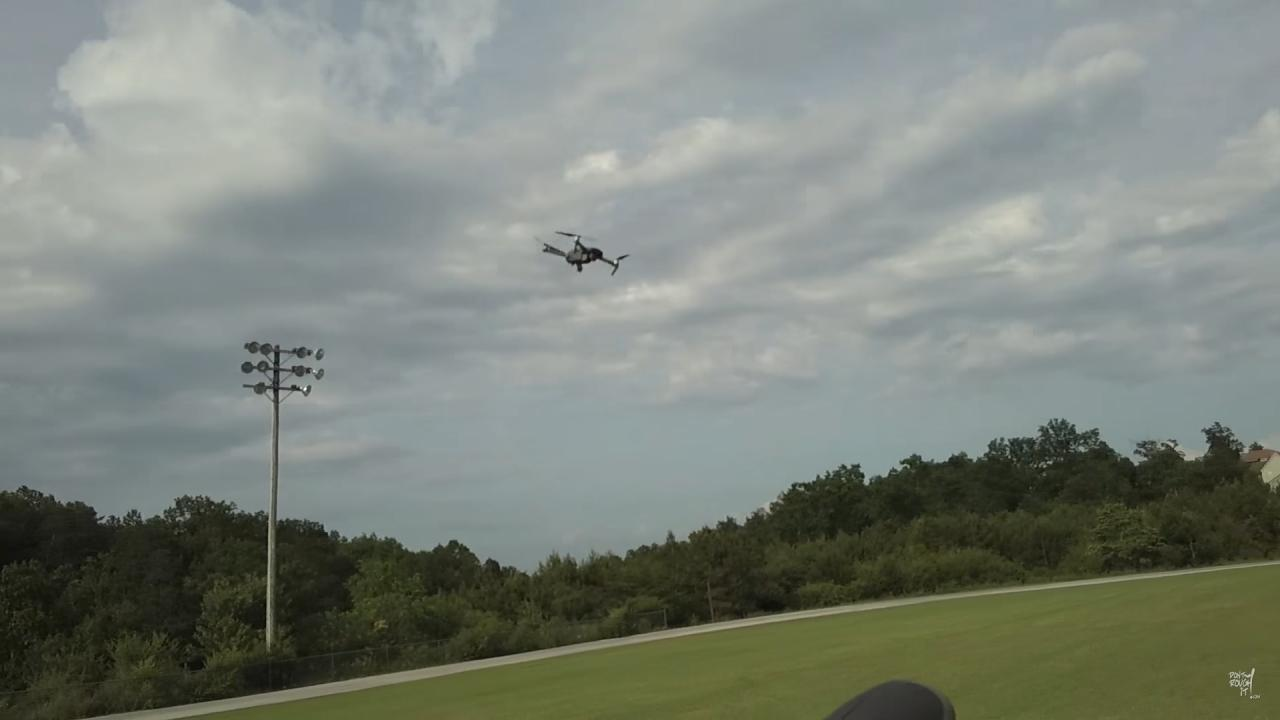Drone: (534, 224, 638, 286)
